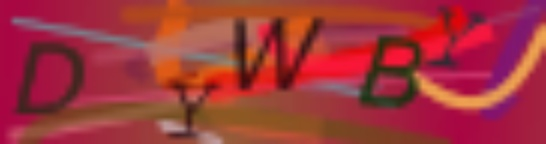B: (354, 33, 427, 111)
D: (14, 37, 89, 116)
W: (227, 14, 328, 96)
Y: (161, 77, 225, 142), (433, 5, 494, 70)
